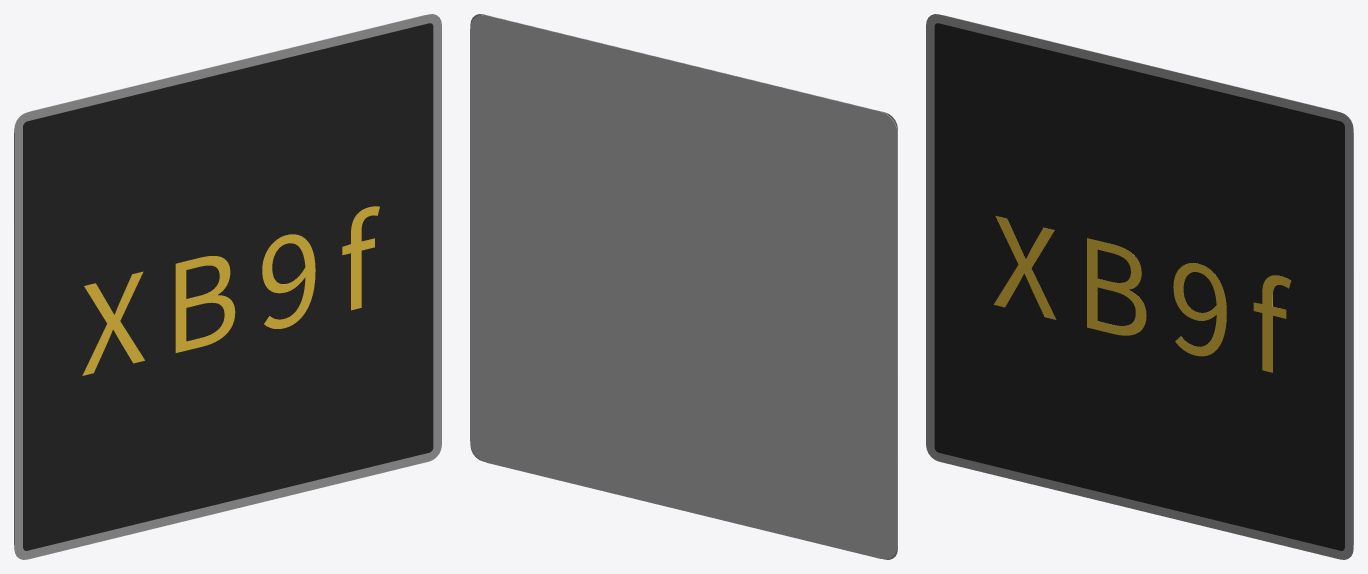
3 views of the same model, side by side, from view 1: azimuth 30°, elevation 25°; view 2: azimuth 150°, elevation 25°; view 3: azimuth 330°, elevation 25° (orthographic).
Parts seen in each view (by area): view 1: XB9f_fond01, XB9f_cadre00, XB9f_txt02, XB9f_dos; view 2: XB9f_dos, XB9f_cadre00; view 3: XB9f_fond01, XB9f_cadre00, XB9f_txt02, XB9f_dos.
Boxes of the visible parts, x1,y1,x2,y2 form: XB9f_fond01: [23, 23, 433, 550]; XB9f_cadre00: [14, 14, 441, 559]; XB9f_txt02: [82, 206, 379, 375]; XB9f_dos: [14, 15, 424, 544]; XB9f_dos: [470, 15, 897, 559]; XB9f_cadre00: [470, 14, 897, 559]; XB9f_fond01: [934, 23, 1344, 550]; XB9f_cadre00: [926, 14, 1353, 559]; XB9f_txt02: [994, 215, 1290, 372]; XB9f_dos: [943, 15, 1353, 544].
Bounding box in the file's own units: 1 × 1 × 0.0025.
